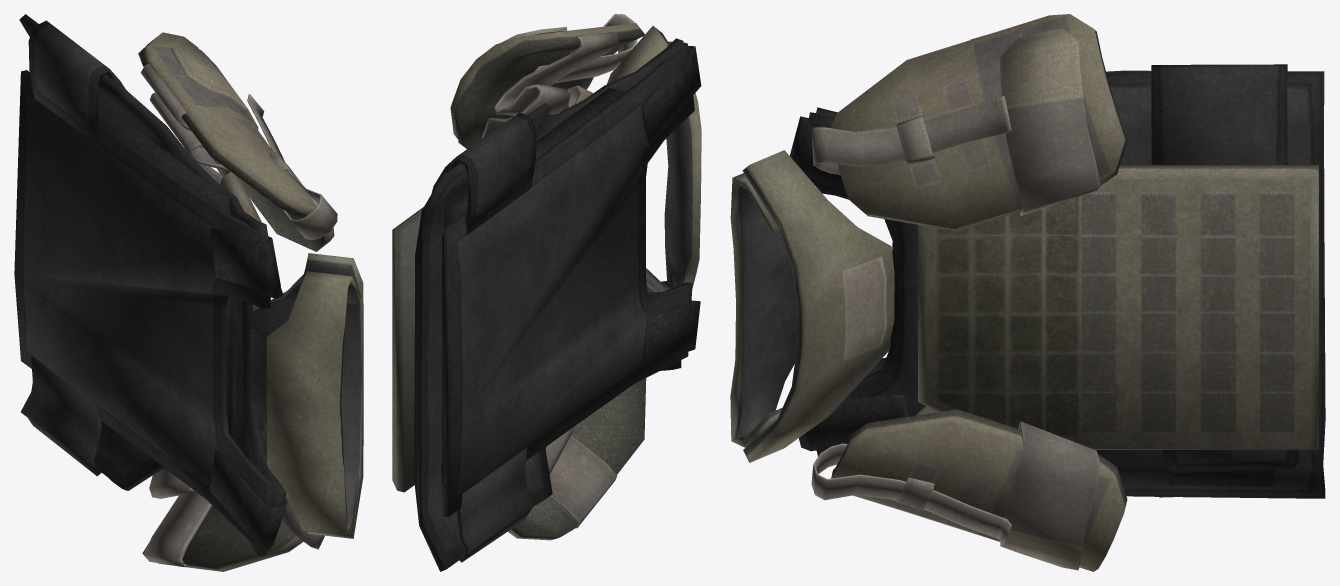
Rendered from Heavy Armor Pickup.fbx.
The picture shows the model from 3 angles, left to right: view 1: azimuth 30°, elevation 25°; view 2: azimuth 150°, elevation 25°; view 3: azimuth 270°, elevation 25°; orthographic projection. The views are drawn at different scales.
Visible parts, largest first — view 1: HeavyArmor_LOD0, neck_LOD0, shoulderPad1_LOD0, shoulderPad2_LOD0, plate_LOD0; view 2: HeavyArmor_LOD0, shoulderPad1_LOD0, shoulderPad2_LOD0, neck_LOD0, plate_LOD0; view 3: plate_LOD0, shoulderPad1_LOD0, HeavyArmor_LOD0, neck_LOD0, shoulderPad2_LOD0.
Part boxes in pixels (<box>): HeavyArmor_LOD0: <box>14,14,287,556</box>; neck_LOD0: <box>250,253,363,538</box>; shoulderPad1_LOD0: <box>138,32,337,251</box>; shoulderPad2_LOD0: <box>142,427,324,571</box>; plate_LOD0: <box>198,163,270,430</box>; HeavyArmor_LOD0: <box>414,38,701,571</box>; shoulderPad1_LOD0: <box>450,14,644,148</box>; shoulderPad2_LOD0: <box>508,378,646,540</box>; neck_LOD0: <box>607,26,701,292</box>; plate_LOD0: <box>392,85,592,492</box>; plate_LOD0: <box>915,165,1318,449</box>; shoulderPad1_LOD0: <box>811,14,1127,231</box>; HeavyArmor_LOD0: <box>790,64,1325,498</box>; neck_LOD0: <box>730,150,894,462</box>; shoulderPad2_LOD0: <box>811,409,1127,571</box>.
Size of what is drawn, in the model's own units: 0.2468 by 1.12 by 1.1.
1 material, 1 textured.
